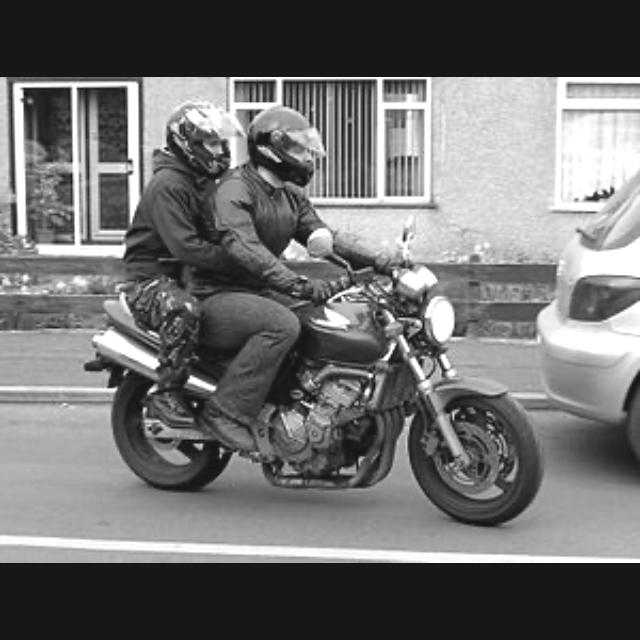With Helmet: (237, 94, 329, 188), (160, 91, 232, 172)
